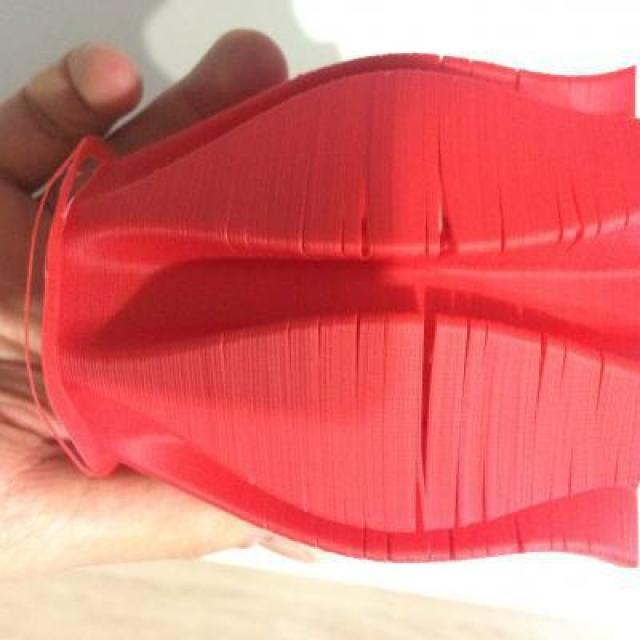Warping: (410, 304, 450, 406), (526, 336, 554, 392), (349, 214, 381, 258), (432, 208, 462, 254), (404, 491, 434, 534), (346, 313, 372, 359), (472, 474, 496, 522), (490, 213, 516, 250), (510, 522, 532, 554)
